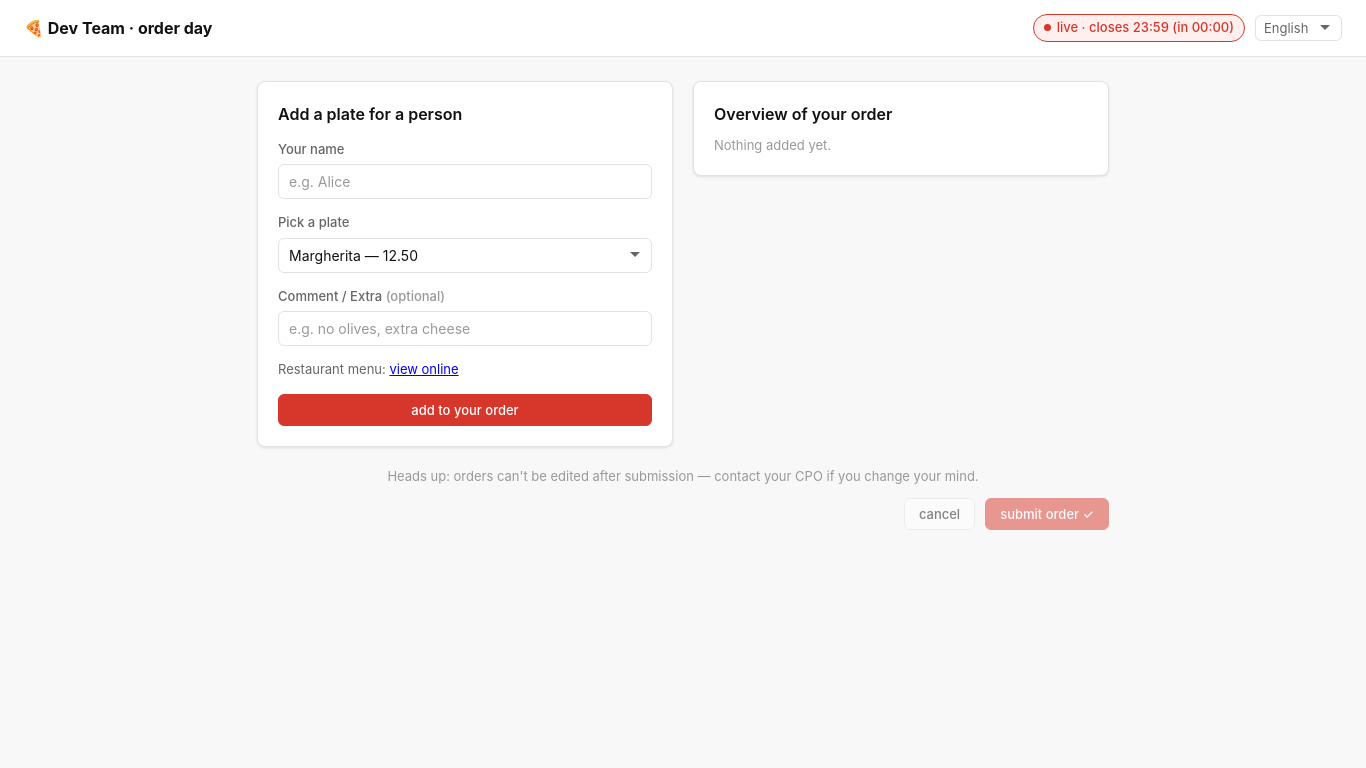
Test: TeamOrderPage › cart behavior › removes a row from cart when remove button is clicked
This screenshot has width=1366, height=768.
Step 1. Type "Bob" into the field labelled "Your name" → [465, 182], box [278,164,652,199]
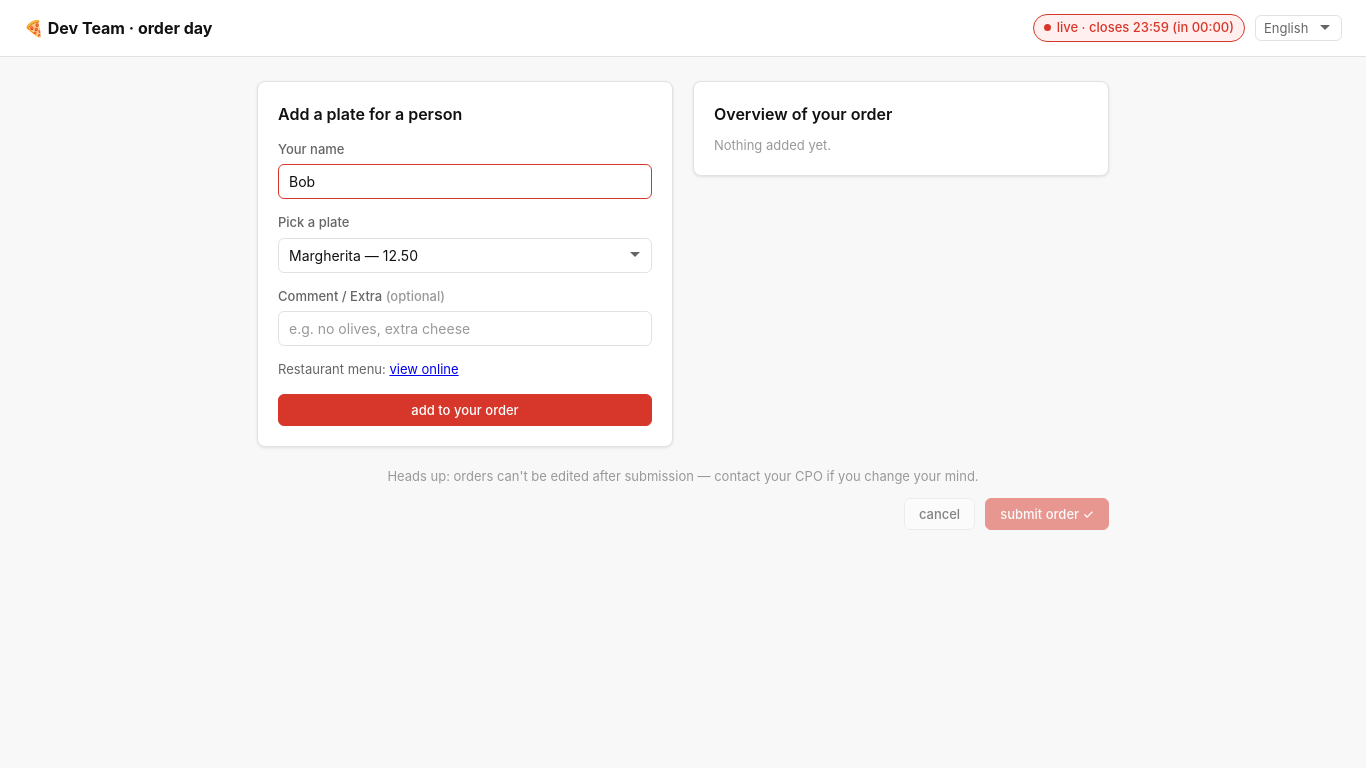
Step 2. Click the button "add to your order" → [465, 410], box [278,394,652,426]
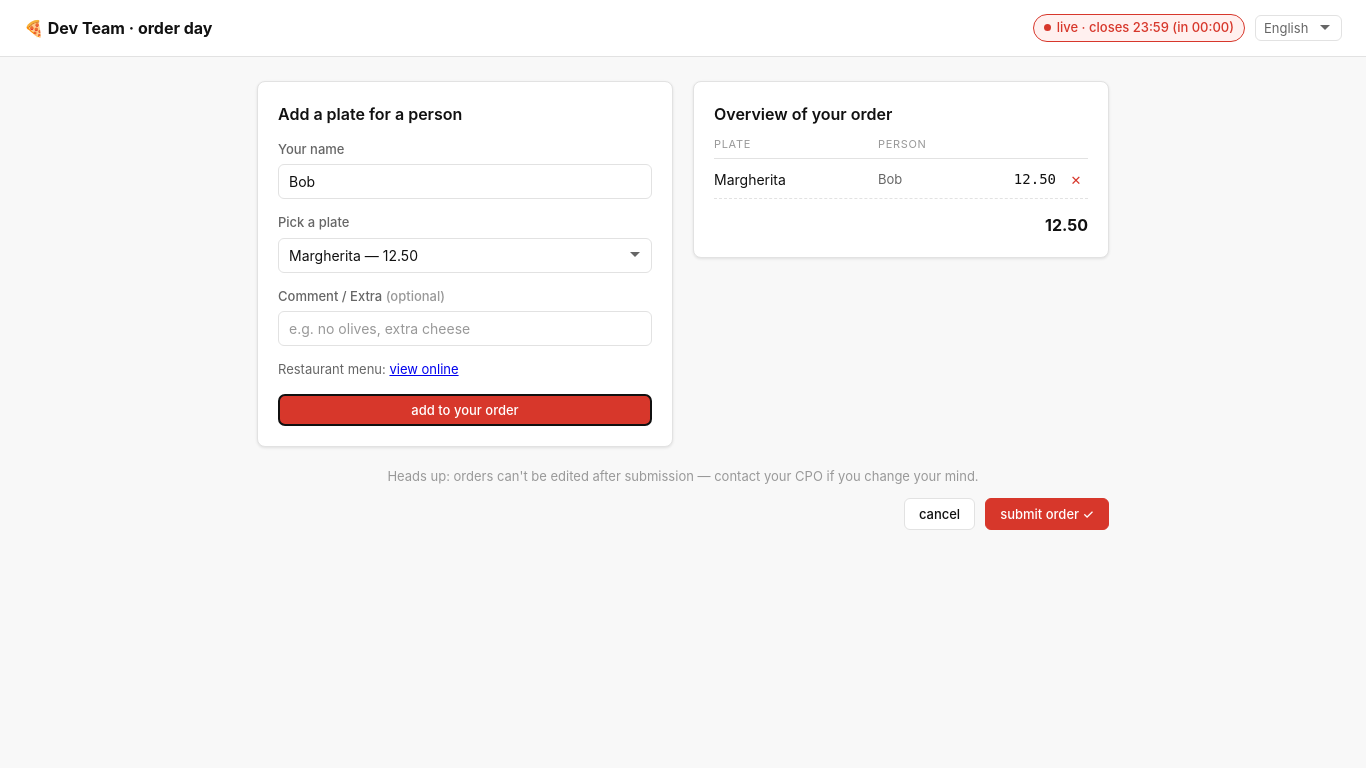
Note: Now click the remove button (✕) in the cart
Step 3. Click the button titled "Remove" → [1076, 180], box [1064,170,1088,188]
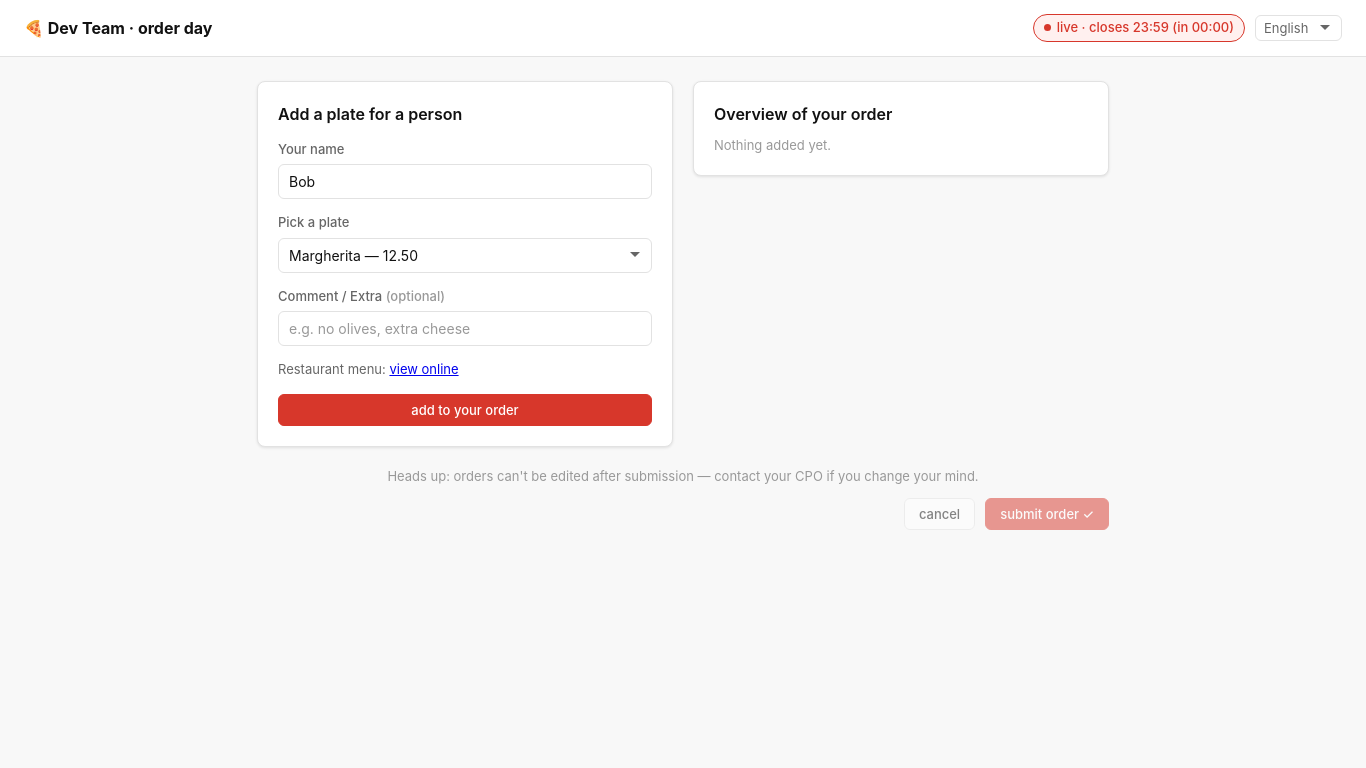
Expected: the text "Nothing added yet." is shown, [714,136,831,152]
